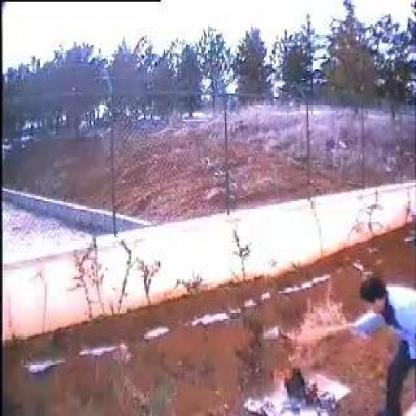foggia-v2-map80-epoch100 - v1 4323: (272, 367, 294, 384)
